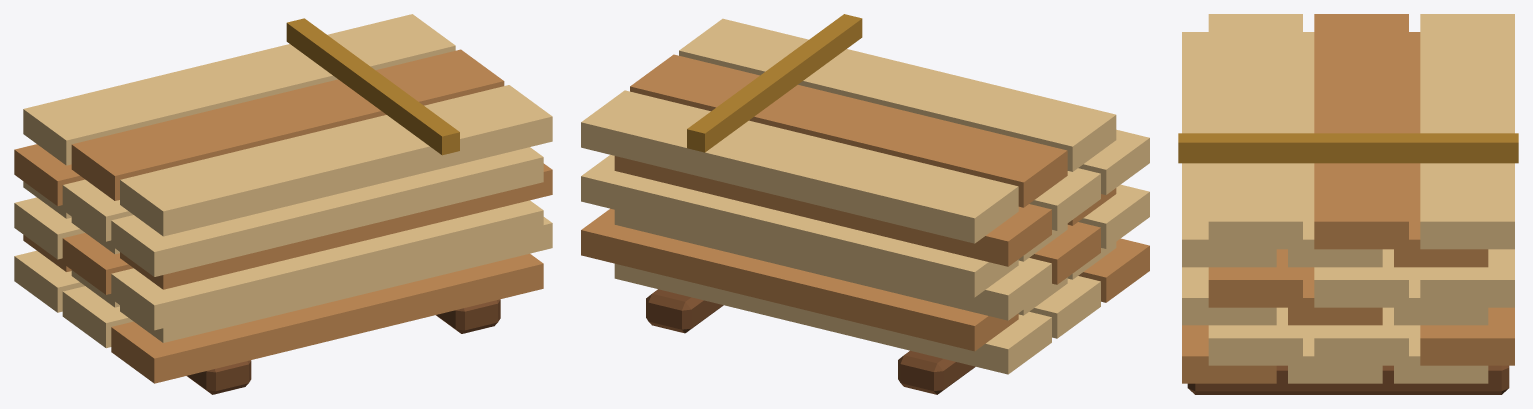
The model's file is prop_planks_l.fbx.
The picture shows the model from 3 angles, left to right: view 1: azimuth 30°, elevation 25°; view 2: azimuth 150°, elevation 25°; view 3: azimuth 270°, elevation 25°; orthographic projection. The views are drawn at different scales.
Parts seen in each view (by area): view 1: prop_planks_l; view 2: prop_planks_l; view 3: prop_planks_l.
Part boxes in pixels (x1,y1,x2,y2): prop_planks_l: (14, 14, 552, 394); prop_planks_l: (581, 14, 1149, 394); prop_planks_l: (1178, 14, 1518, 394).
Size of the model in its own units: 0.3288 by 0.1608 by 0.216.
